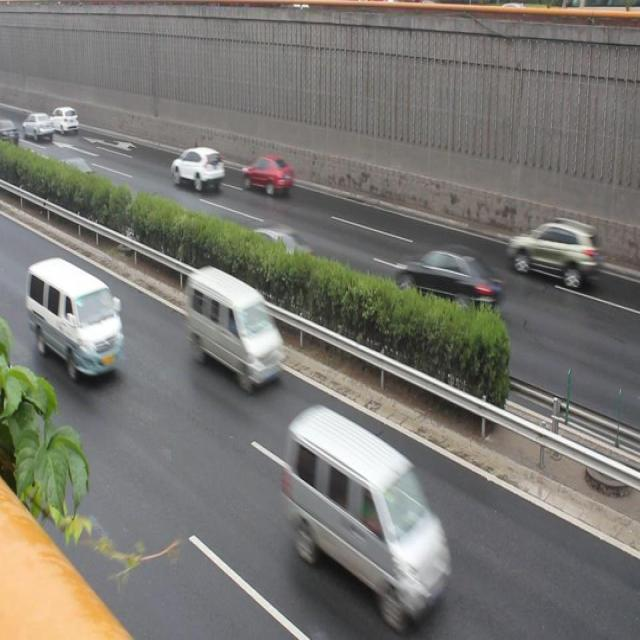car: (396, 244, 500, 326), (508, 216, 603, 300), (244, 220, 318, 272), (169, 141, 227, 194), (242, 153, 292, 200), (55, 150, 98, 191)
truck: (285, 404, 459, 616), (27, 255, 122, 390), (185, 266, 283, 388)
